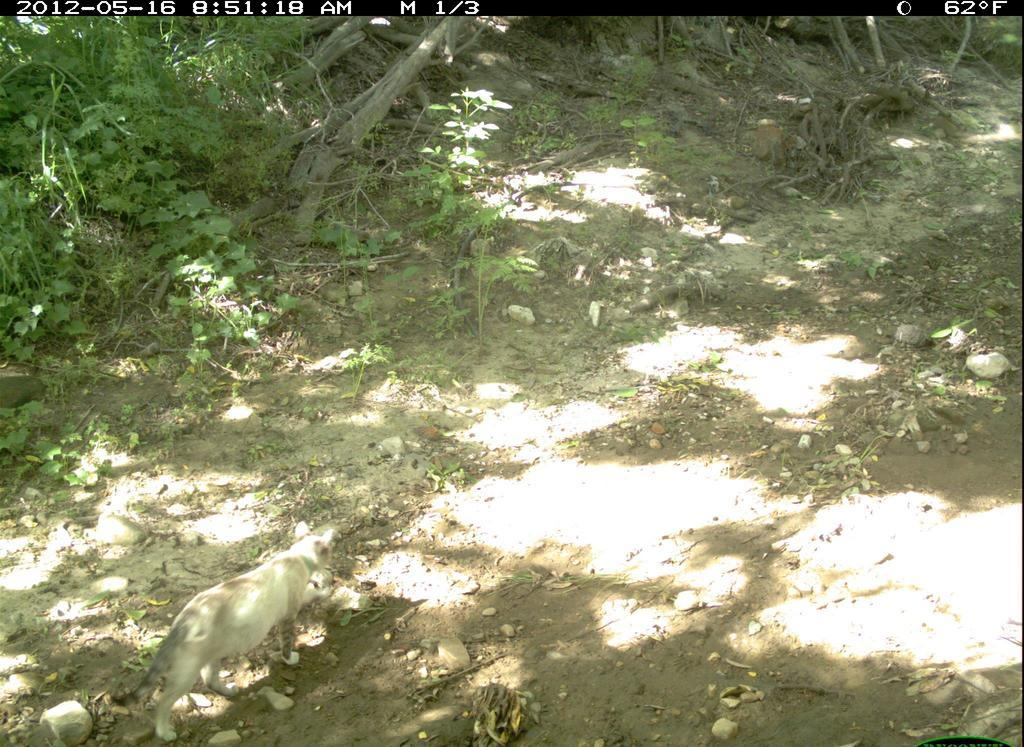cat: (108, 516, 351, 745)
